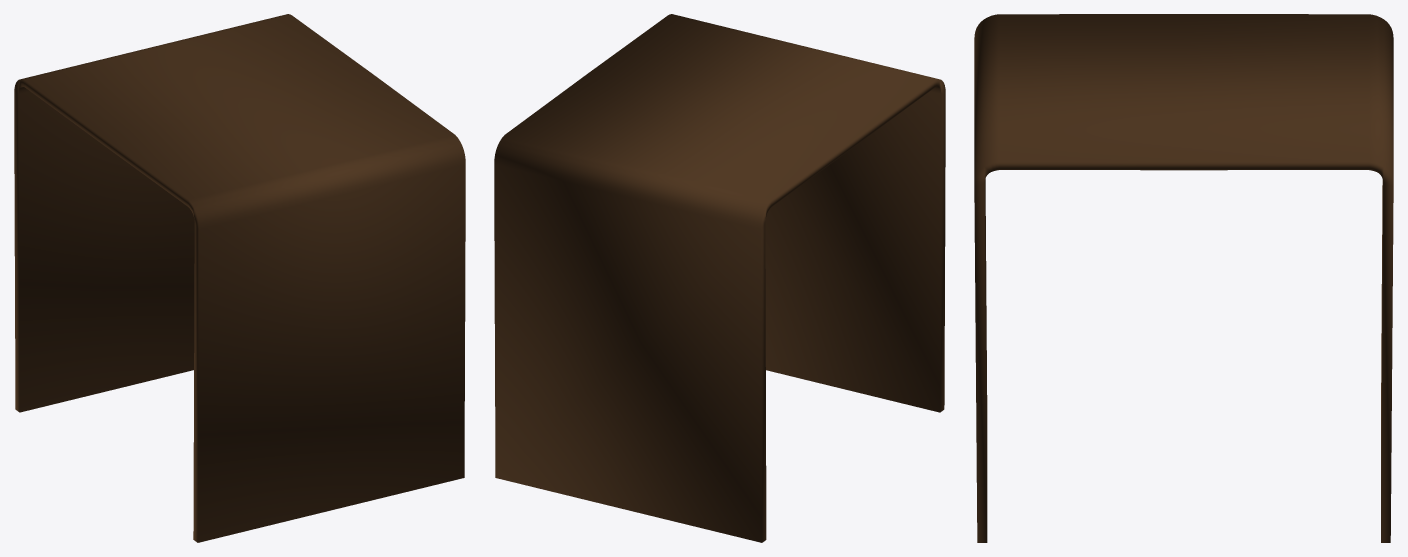
The model's file is ND-0893__Aris_mesa43.glb.
3 views of the same model, side by side, from view 1: azimuth 30°, elevation 25°; view 2: azimuth 150°, elevation 25°; view 3: azimuth 270°, elevation 25° (orthographic). The views are drawn at different scales.
Parts seen in each view (by area): view 1: Cube.002; view 2: Cube.002; view 3: Cube.002.
Part boxes in pixels (x1=…): Cube.002: x1=14, y1=14, x2=465, y2=542; Cube.002: x1=494, y1=14, x2=945, y2=542; Cube.002: x1=974, y1=14, x2=1393, y2=542.
Size of the model in its own units: 1.32 by 1.59 by 1.58.
